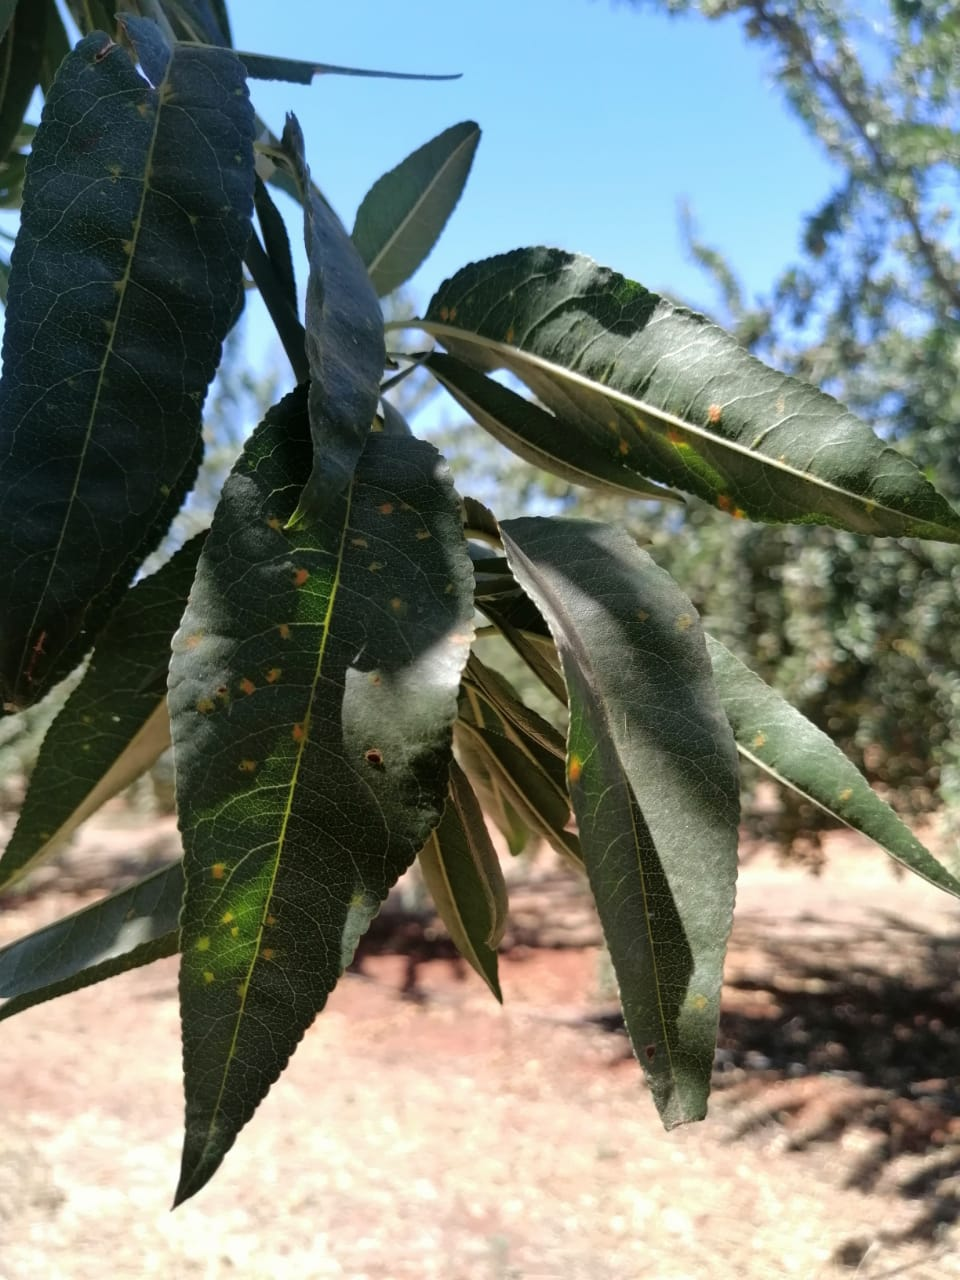polystigma: (163, 375, 478, 1217), (1, 29, 256, 717), (421, 242, 960, 542), (492, 515, 745, 1133)
